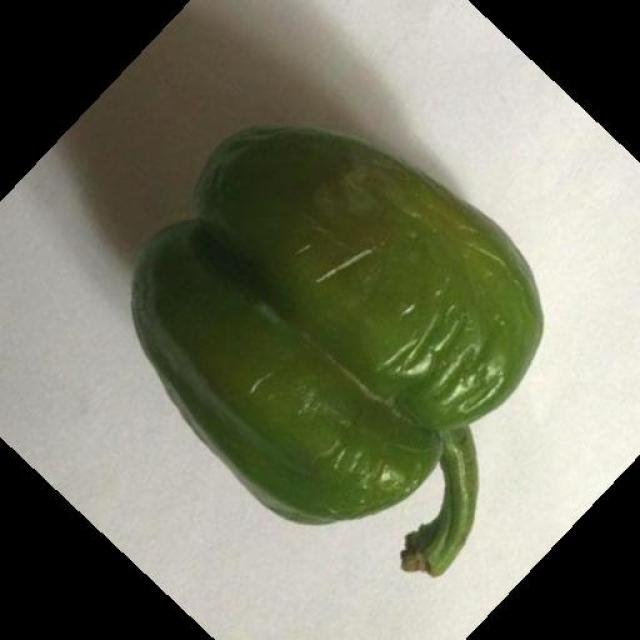Stale_Capsicum: (153, 92, 536, 563)
